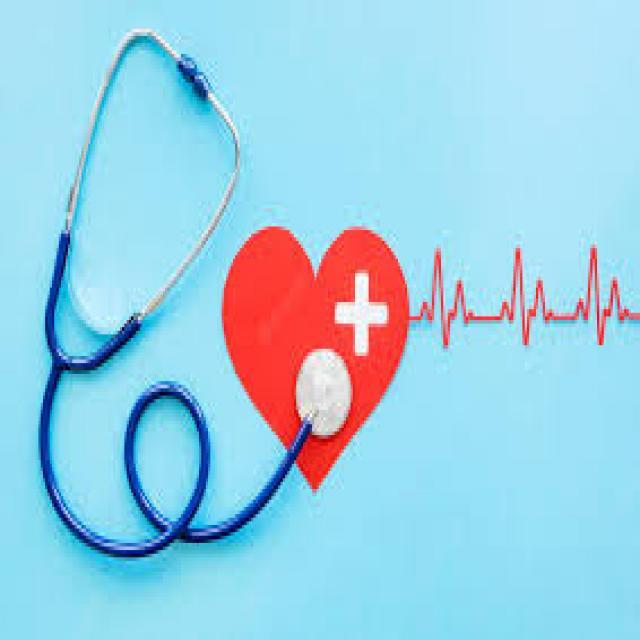stethoscope: (29, 26, 307, 596)
